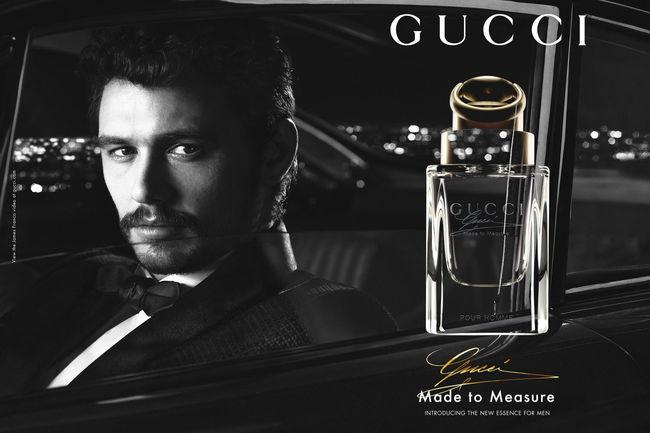GUCCI: (390, 13, 588, 48), (450, 200, 526, 217)
